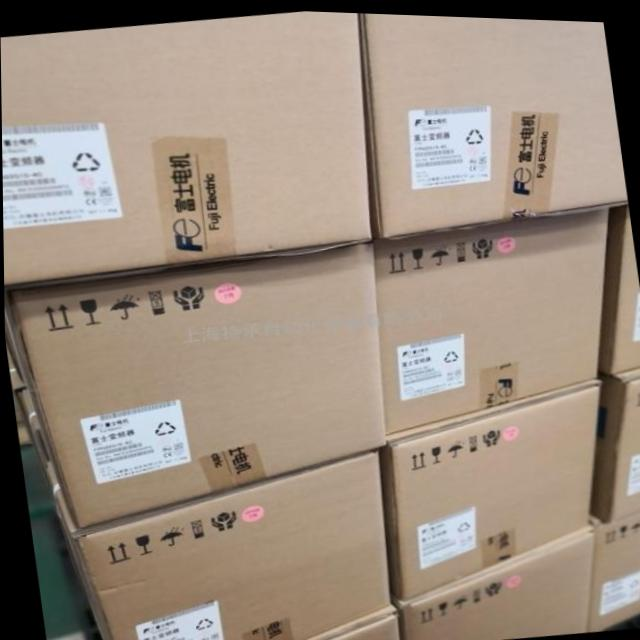box: (3, 237, 385, 527), (0, 9, 370, 285), (44, 446, 388, 640), (359, 10, 626, 237), (370, 203, 606, 432), (375, 373, 598, 597), (393, 519, 591, 640), (590, 359, 640, 518), (597, 202, 640, 369), (588, 503, 640, 626), (296, 600, 399, 640)
